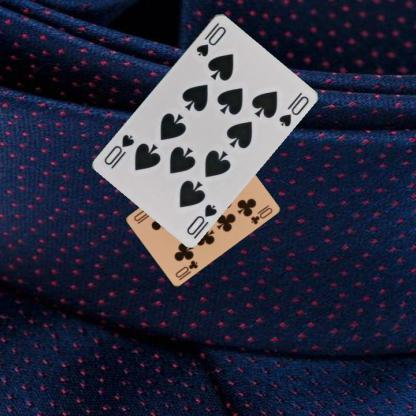10c: (173, 257, 199, 279)
10s: (193, 20, 228, 58), (184, 200, 218, 236)
